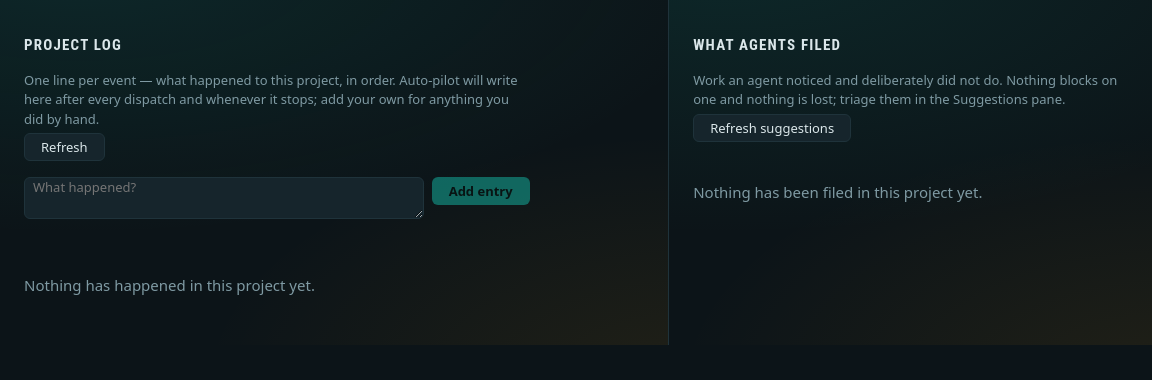
Test: adding to the log by hand › keeps what was typed when the post fails, and says why
Expected: the text "Nothing has happened in this project yet." is shown, [24,275,315,297]
In the text box named "Add to the log": (224, 198) [24,177,424,219], type "why I did it"
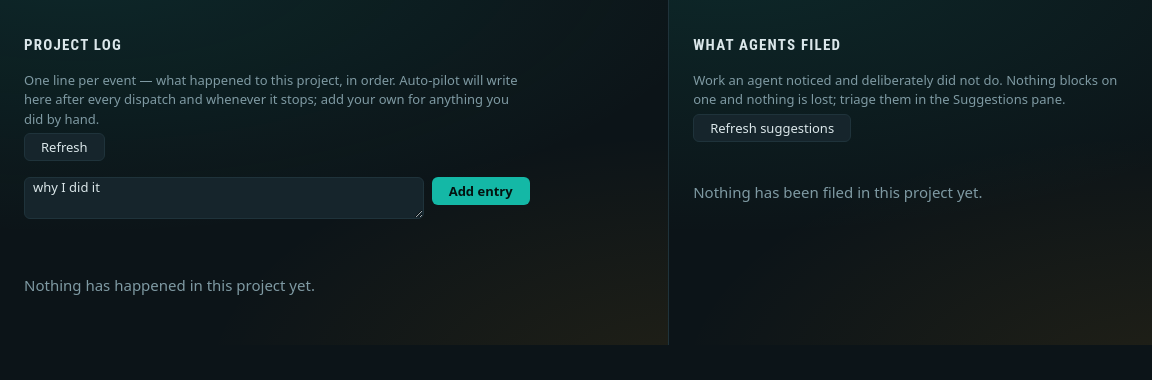
Click the button "Add entry": (481, 191) [432,177,530,205]
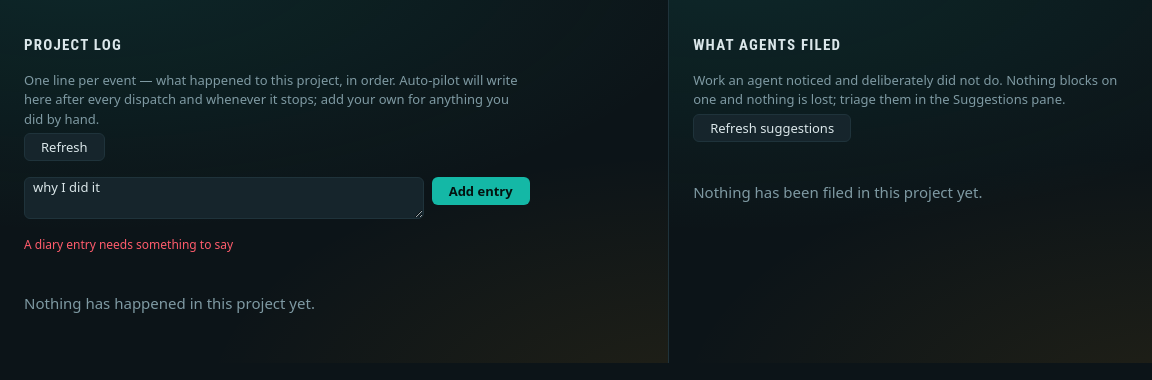
Now the text "A diary entry needs something to say" is shown, box [24,236,233,253]
